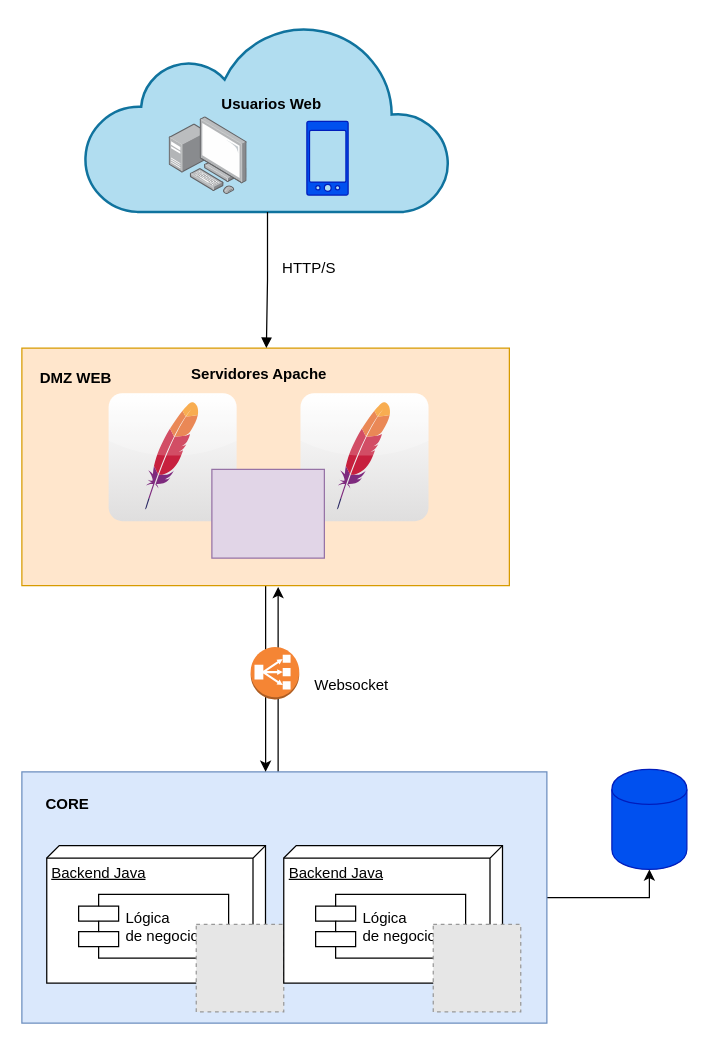
Some shapes in this 709 by 1045 pixel diagram are drawn without their labels. Grey dashed boxes stand in for pictures. The centre of each missing label's shape, as x and y in pixels:
BD MySQL: the point at 649,818
Capa Gráfica Phaser: the point at 267,513
